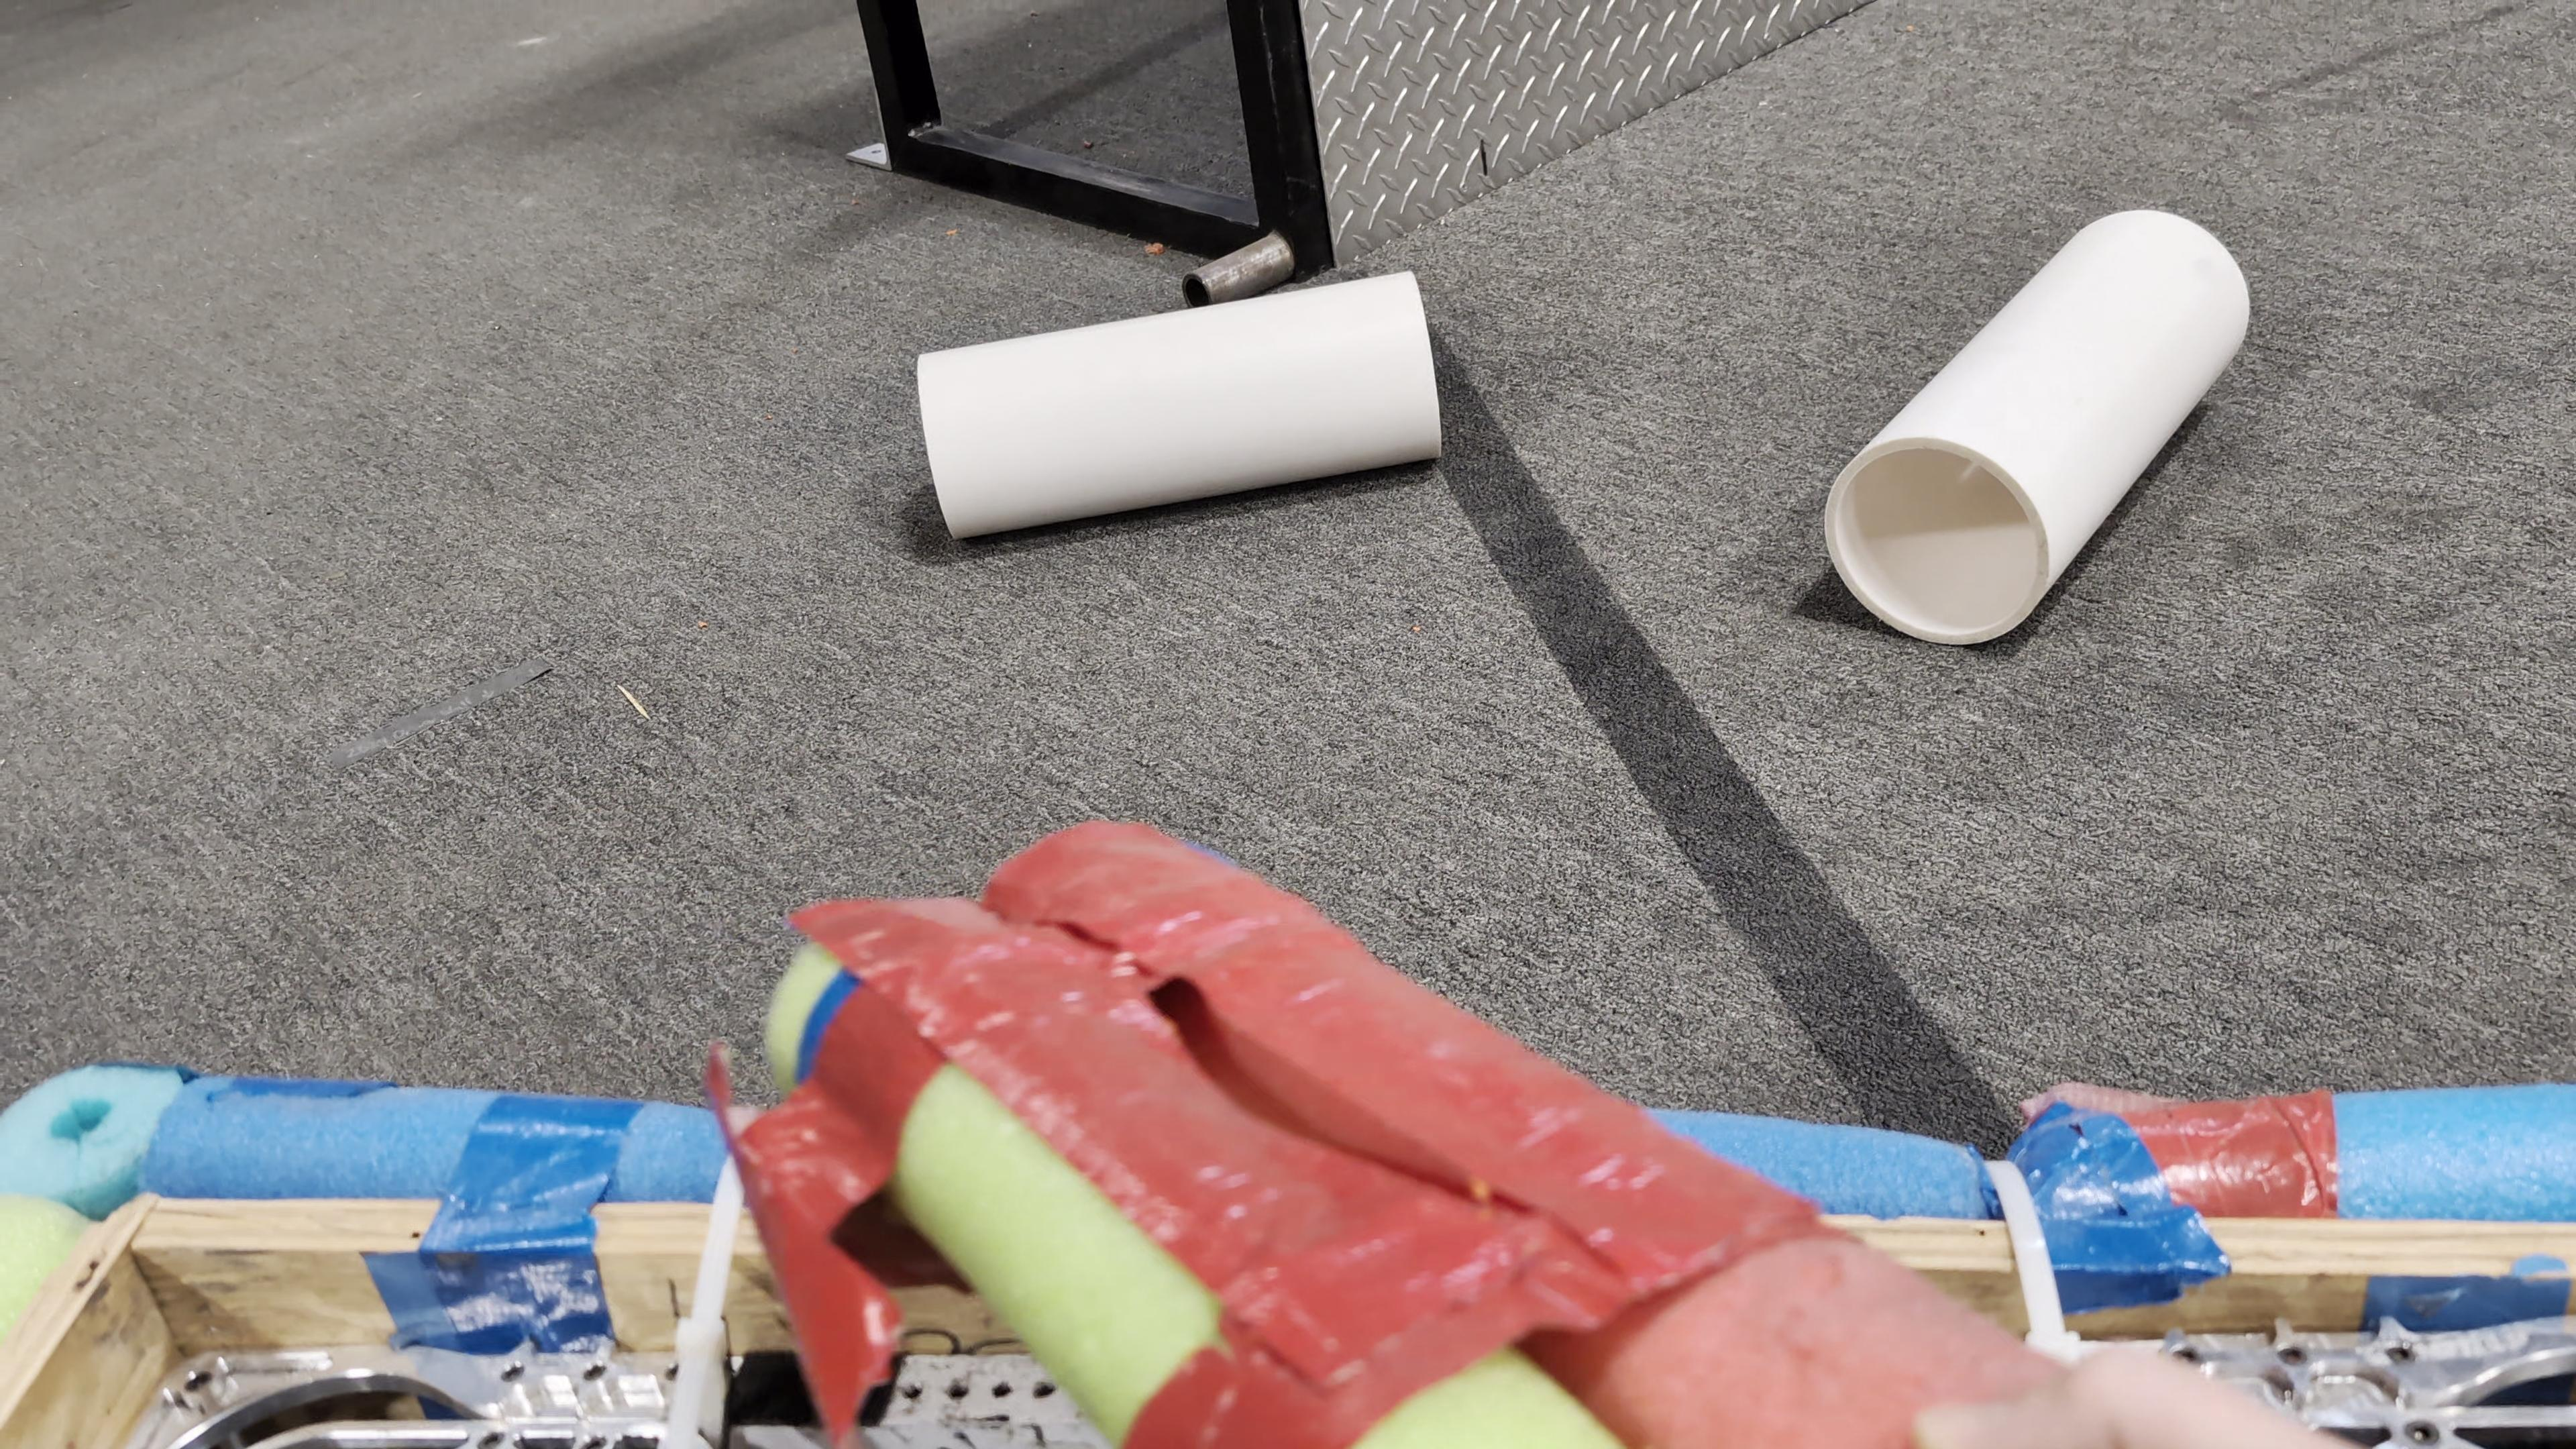coral: (1822, 203, 2253, 644), (915, 265, 1444, 541)
